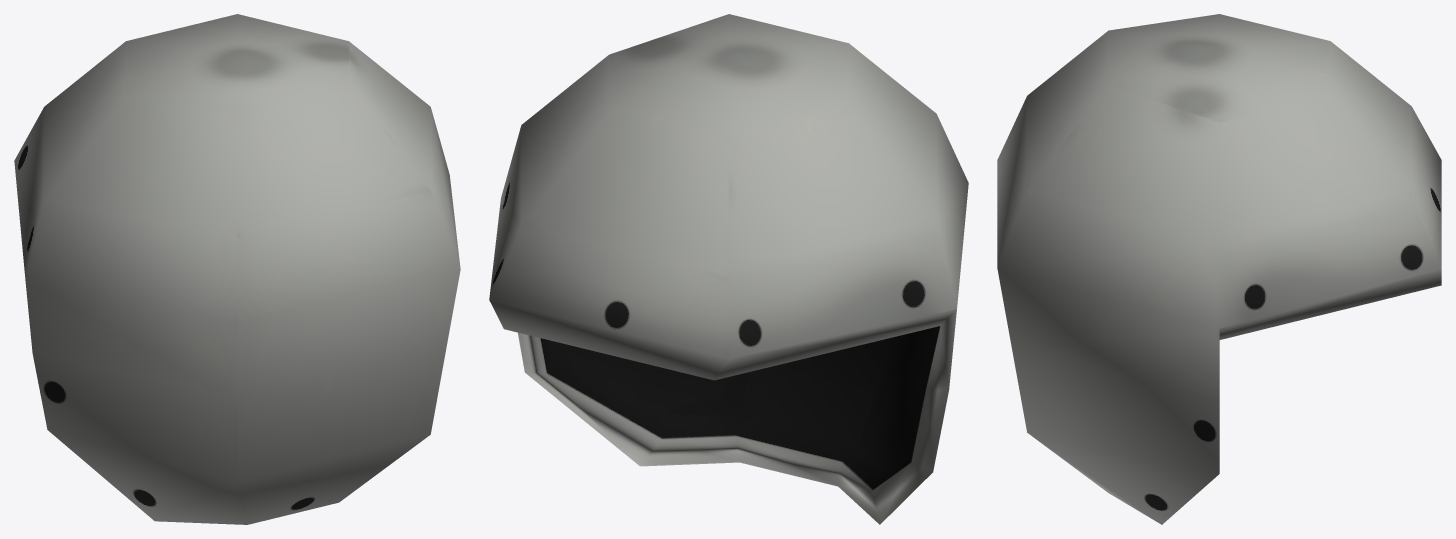
Rendered from Vital_part1.gltf.
The picture shows the model from 3 angles, left to right: view 1: azimuth 30°, elevation 25°; view 2: azimuth 150°, elevation 25°; view 3: azimuth 270°, elevation 25°; orthographic projection. The views are drawn at different scales.
Visible parts, largest first — view 1: pSphere1; view 2: pSphere1; view 3: pSphere1.
Part boxes in pixels (box(x1,y1,x2,y2)): pSphere1: box(14, 14, 460, 524); pSphere1: box(489, 14, 968, 524); pSphere1: box(997, 14, 1441, 524).
Bounding box in the file's own units: 0.5415 × 0.5136 × 0.493.
Materials: 1 (1 with a texture image).
